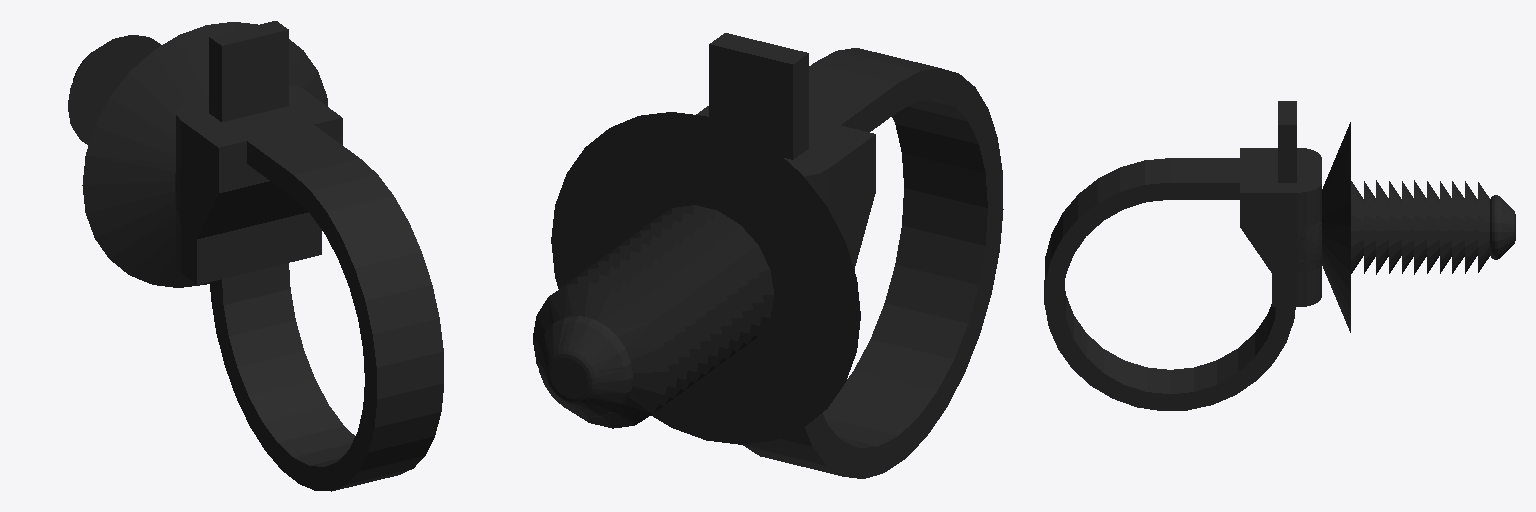
robot.urdf — Clips_1.SLDPRT:
<?xml version="1.0" encoding="utf-8"?>
<!-- This URDF was automatically created by SolidWorks to URDF Exporter! Originally created by [author] ([email redacted]) 
     Commit Version: 1.5.1-0-g916b5db  Build Version: 1.5.7152.31018
     For more information, please see http://wiki.ros.org/sw_urdf_exporter -->
<robot
  name="Clips_1.SLDPRT">
  <link
    name="Clips_1.SLDPRT">
    <inertial>
      <origin
        xyz="-3.4406E-11 -0.0018606 -0.0010119"
        rpy="0 0 0" />
      <mass
        value="0.0014073" />
      <inertia
        ixx="1.373E-07"
        ixy="1.5252E-16"
        ixz="1.5879E-15"
        iyy="4.1796E-08"
        iyz="1.9183E-08"
        izz="1.0918E-07" />
    </inertial>
    <visual>
      <origin
        xyz="0 0 0"
        rpy="1.5707963267949 0 0" />
      <geometry>
        <mesh
          filename="package://Clips_1.SLDPRT/meshes/Clips_1.SLDPRT.STL" />
      </geometry>
      <material
        name="">
        <color
          rgba="0.2 0.2 0.2 1" />
        <texture
          filename="package://Clips_1.SLDPRT/textures/" />
      </material>
    </visual>
    <collision>
      <origin
        xyz="0 0 0"
        rpy="1.5707963267949 0 0" />
      <geometry>
        <mesh
          filename="package://Clips_1.SLDPRT/meshes/Clips_1.SLDPRT.STL" />
      </geometry>
    </collision>
  </link>
</robot>

--- What the picture shows (computed from the rendered views, not written in the file) ---
Views: 3 orthographic renders of the robot side by side, from view 1: azimuth 30°, elevation 25°; view 2: azimuth 150°, elevation 25°; view 3: azimuth 270°, elevation 25°.
Robot: Clips_1.SLDPRT — 1 links, 0 joints (none); root link Clips_1.SLDPRT; default pose: every joint at zero.
Links seen in each view (by area): view 1: Clips_1.SLDPRT; view 2: Clips_1.SLDPRT; view 3: Clips_1.SLDPRT.
Boxes of the visible links, x1,y1,x2,y2 form: Clips_1.SLDPRT: (68,21,443,491); Clips_1.SLDPRT: (533,33,1003,478); Clips_1.SLDPRT: (1044,101,1515,410).
Size in the robot's own frame: 0.017 by 0.0373 by 0.025 metres.
1 mesh visuals loaded from 1 distinct referenced files (1 binary STL).